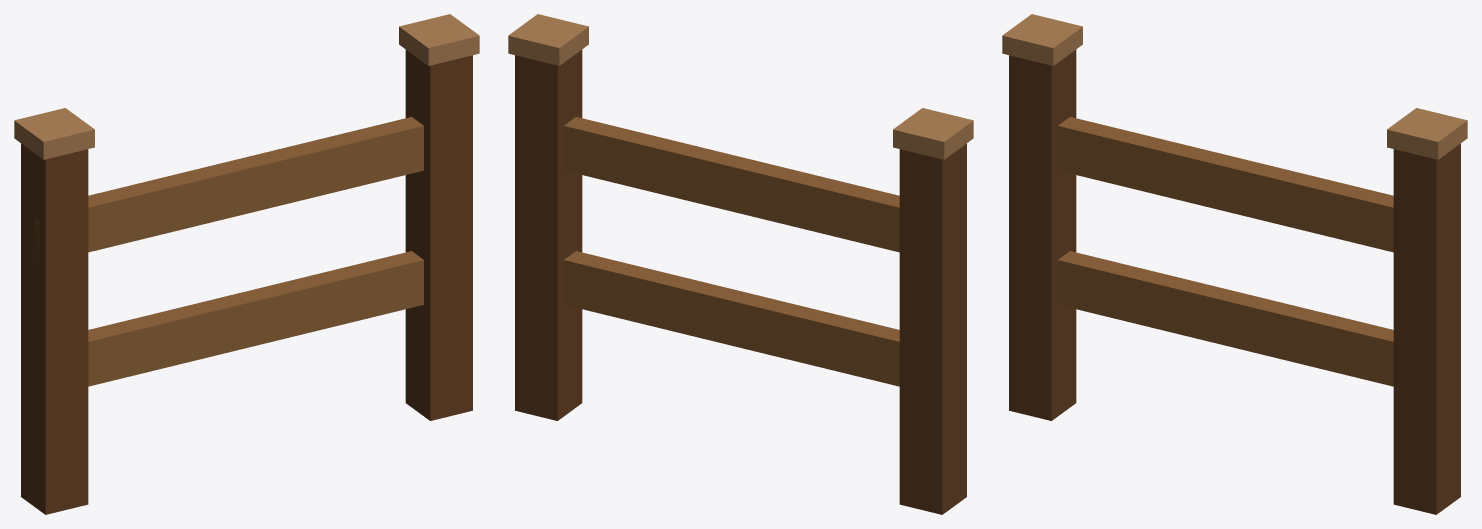
The model's file is fence_segment.glb.
The picture shows the model from 3 angles, left to right: view 1: azimuth 30°, elevation 25°; view 2: azimuth 150°, elevation 25°; view 3: azimuth 330°, elevation 25°; orthographic projection.
Visible parts, largest first — view 1: body; view 2: body; view 3: body.
Boxes of the visible parts, x1=… form: body: x1=14, y1=14, x2=479, y2=514; body: x1=508, y1=14, x2=973, y2=514; body: x1=1002, y1=14, x2=1467, y2=514.
Size of the model in its own units: 1.02 by 0.84 by 0.12.
